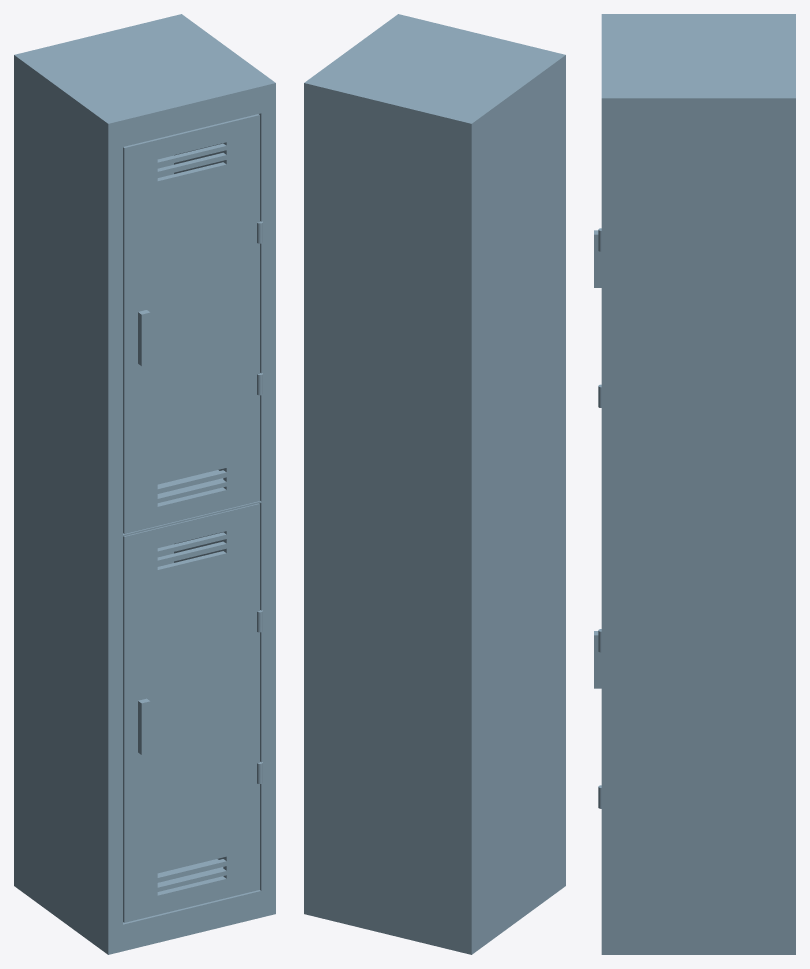
Rendered from Locker1.fbx.
The picture shows the model from 3 angles, left to right: view 1: azimuth 30°, elevation 25°; view 2: azimuth 150°, elevation 25°; view 3: azimuth 270°, elevation 25°; orthographic projection. The views are drawn at different scales.
Parts seen in each view (by area): view 1: Casillero, PuertaArriba, PuertaAbajo, Medio; view 2: Casillero; view 3: Casillero, PuertaArriba, PuertaAbajo.
Boxes of the visible parts, x1,y1,x2,y2 form: Casillero: (14, 14, 275, 954); PuertaArriba: (123, 114, 262, 533); PuertaAbajo: (123, 503, 262, 922); Medio: (123, 470, 261, 536); Casillero: (304, 14, 565, 954); Casillero: (601, 14, 795, 954); PuertaArriba: (594, 228, 601, 407); PuertaAbajo: (594, 629, 601, 808).
Size of the model in its own units: 0.38 by 1.8 by 0.3843.
